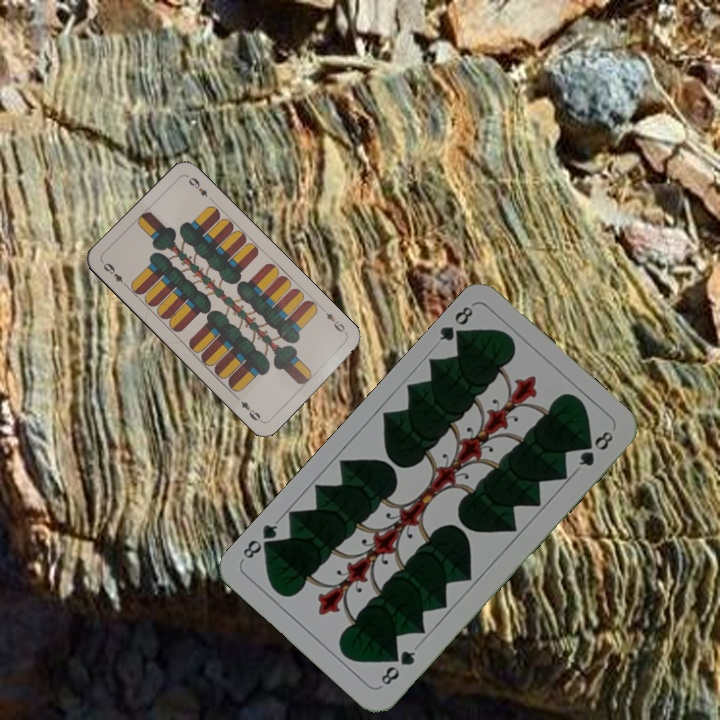E9: (318, 305, 350, 338), (98, 258, 130, 290)
G8: (435, 302, 476, 347), (376, 646, 419, 688)
